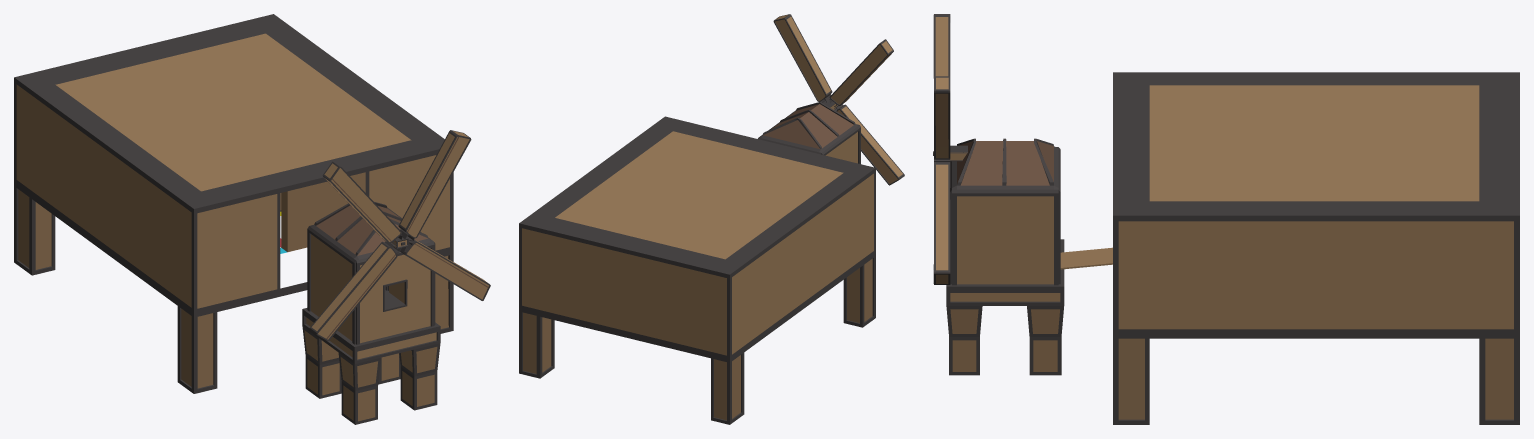
Rendered from maze.glb.
3 renders of one model, left to right at view 1: azimuth 30°, elevation 25°; view 2: azimuth 150°, elevation 25°; view 3: azimuth 270°, elevation 25°, orthographic. The views are drawn at different scales.
Parts seen in each view (by area): view 1: MazeRoom, Legs, BodyFaces, Blade1, Blade3, BodyFrames, Roof, MilBase, Blade4, Blade2; view 2: MazeRoom, Roof, Blade1, Blade3, Blade4, BodyFrames, BodyFaces; view 3: MazeRoom, BodyFaces, Legs, Roof, BodyFrames, Blade2, MilBase, Blade1, Blade4, Backdoor.
Boxes of the visible parts, x1,y1,x2,y2 form: MazeRoom: (14, 14, 453, 393); Legs: (302, 326, 440, 424); BodyFaces: (311, 234, 430, 343); Blade1: (398, 130, 471, 240); Blade3: (309, 241, 401, 341); BodyFrames: (302, 207, 440, 349); Roof: (314, 202, 428, 255); MilBase: (302, 291, 440, 363); Blade4: (322, 161, 402, 244); Blade2: (400, 239, 490, 300); MazeRoom: (519, 116, 875, 424); Roof: (763, 102, 855, 149); Blade1: (773, 14, 832, 102); Blade3: (834, 104, 904, 185); Blade4: (829, 39, 893, 106); BodyFrames: (758, 110, 860, 163); BodyFaces: (825, 132, 857, 163); MazeRoom: (1113, 72, 1519, 424); BodyFaces: (957, 152, 1053, 284); Legs: (946, 306, 1063, 375); Roof: (957, 138, 1053, 185); BodyFrames: (946, 146, 1064, 289); Blade2: (933, 159, 950, 284); MilBase: (946, 289, 1064, 305); Blade1: (934, 76, 950, 159); Blade4: (933, 14, 950, 78); Backdoor: (1060, 247, 1112, 269).
Bounding box in the file's own units: 32 × 32 × 55.39.
